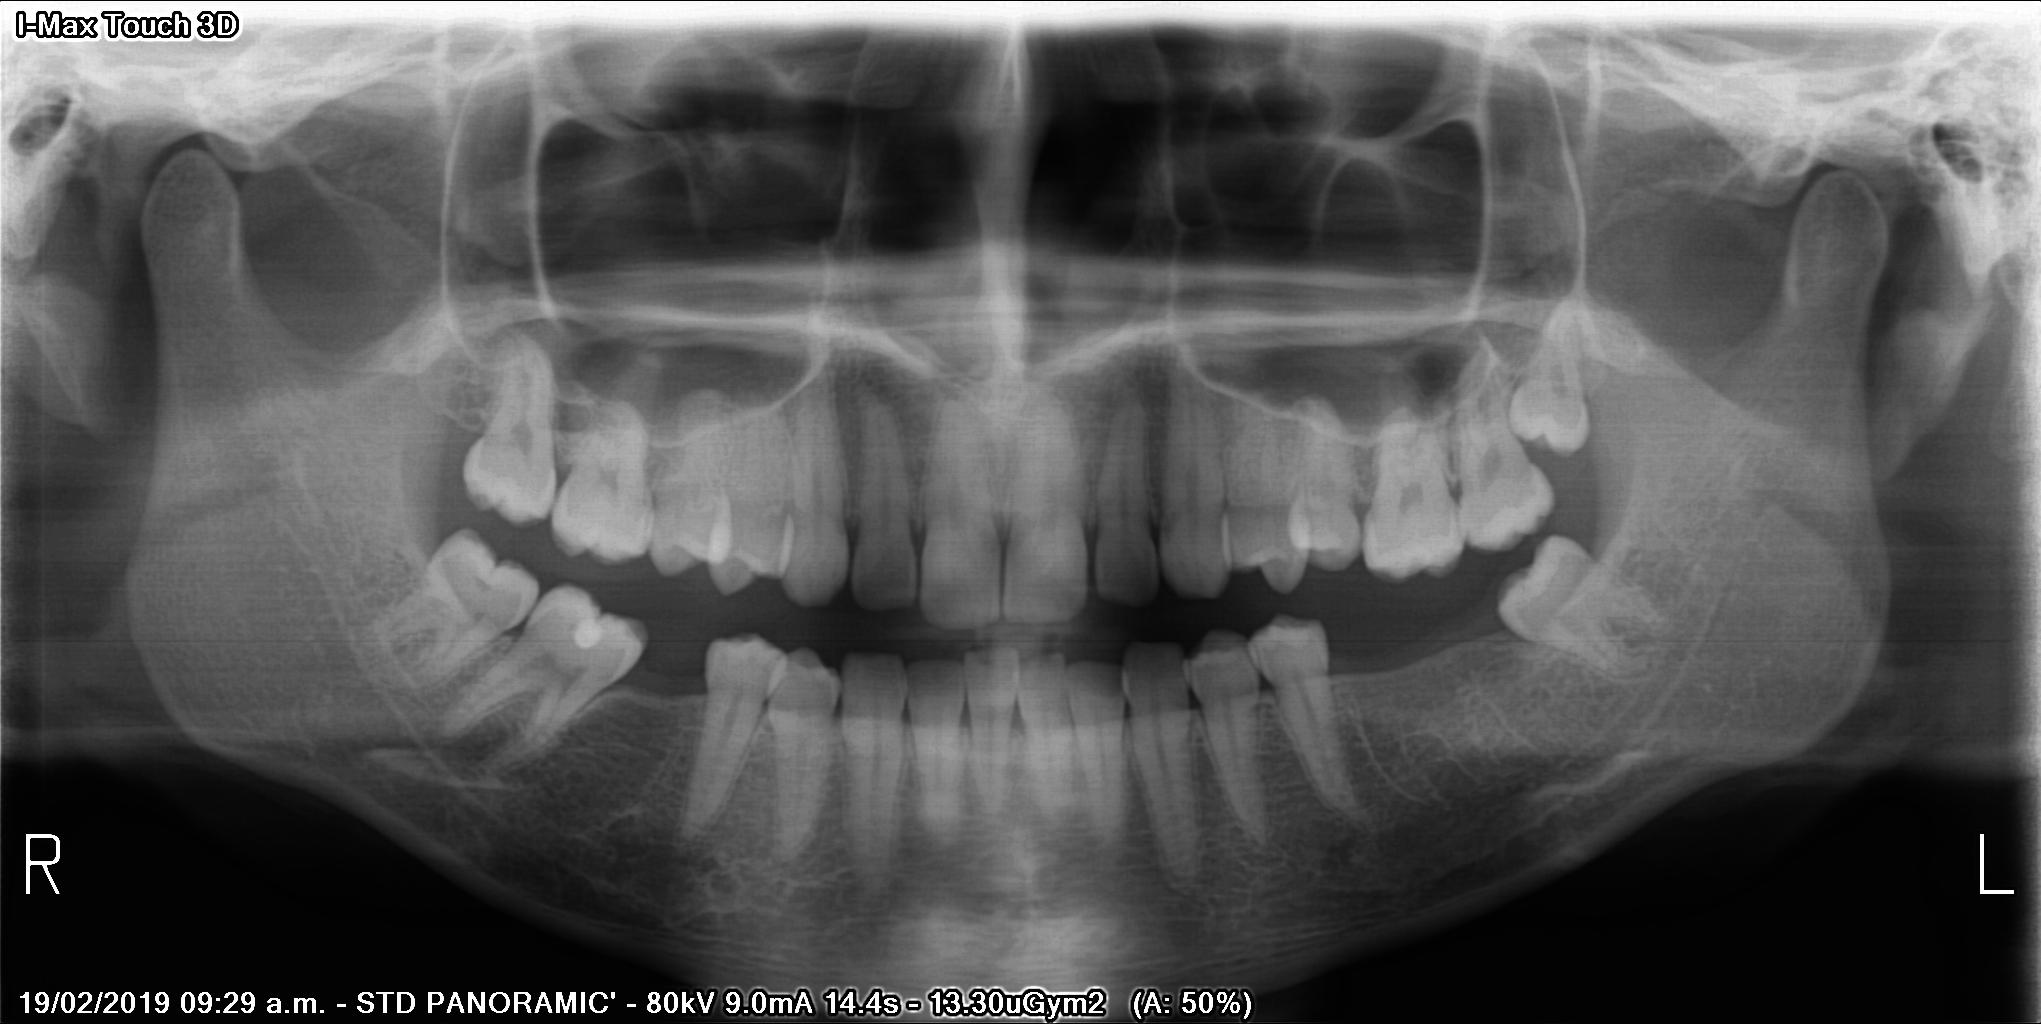Çürük: (572, 618, 607, 651)
